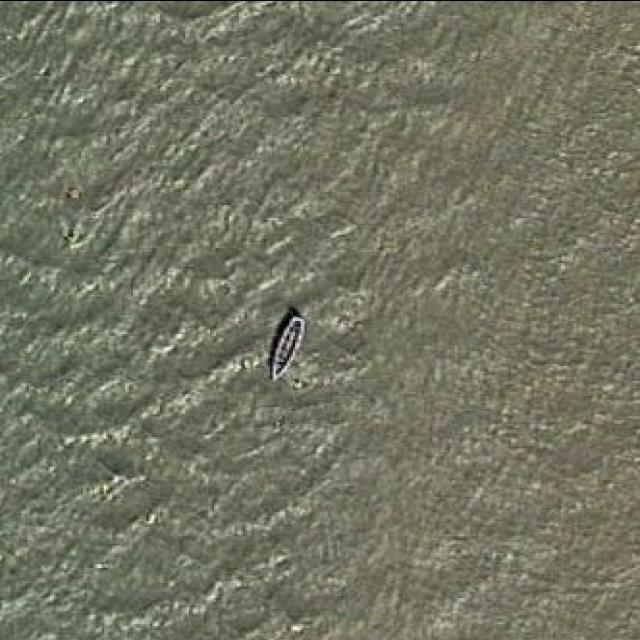ship: (264, 312, 308, 386)
